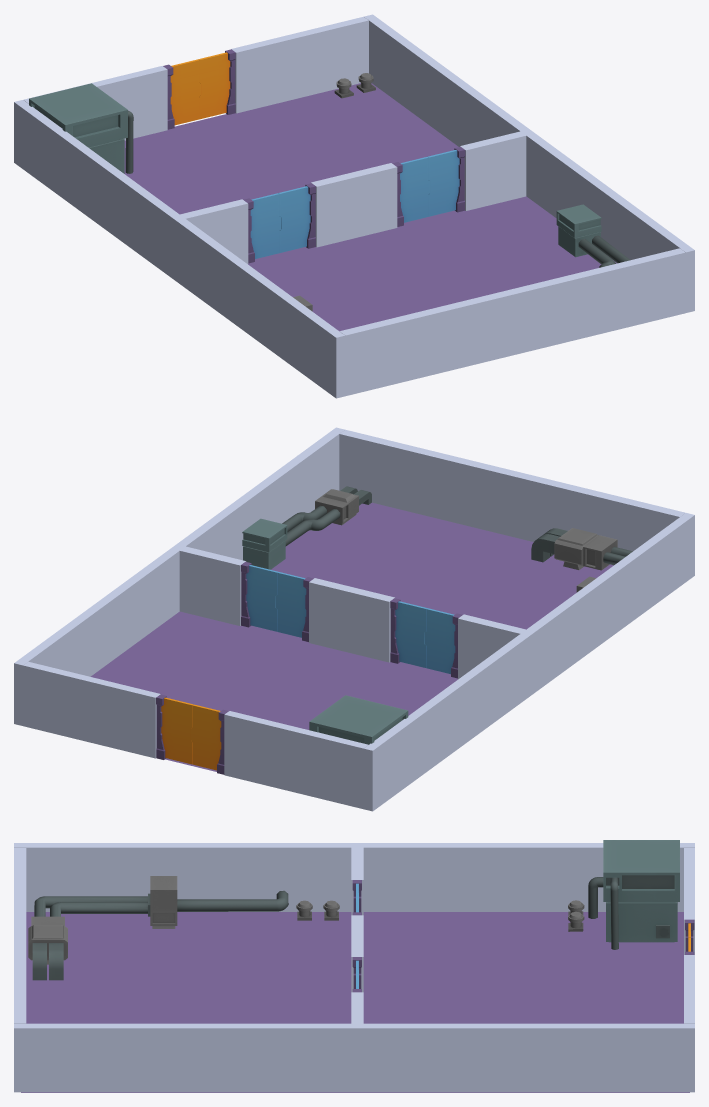
Rendered from maps_01.fbx.
3 views of the same model, one above another, from view 1: azimuth 30°, elevation 25°; view 2: azimuth 150°, elevation 25°; view 3: azimuth 270°, elevation 25° (orthographic). The views are drawn at different scales.
Visible parts, largest first — view 1: ground_geo, frames_01_geo, frames_03_geo, frames_02_geo, frames_06_geo, frames_04_geo, generatorStation_05_geo, frames_08_geo, door_01_geo (×2), door_02_geo (×2), frames_05_geo, generatorStation_04_geo (+5 smaller); view 2: ground_geo, frames_01_geo, frames_03_geo, frames_02_geo, frames_05_geo, frames_06_geo, frames_04_geo, frames_08_geo, generatorStation_04_geo, door_01_geo (×2), door_02_geo (×2), generatorStation_03_geo (+6 smaller); view 3: ground_geo, frames_02_geo, frames_01_geo, generatorStation_05_geo, generatorStation_03_geo, frames_03_geo, frames_05_geo, frames_06_geo, frames_04_geo, frames_07_geo, generatorStation_02_geo, generatorStation_06_geo (+1 smaller).
Part boxes in pixels (box(x1,y1,x2,y2)): ground_geo: box(124, 83, 617, 331); frames_01_geo: box(14, 100, 345, 398); frames_03_geo: box(340, 248, 685, 396); frames_02_geo: box(364, 14, 694, 312); frames_06_geo: box(231, 16, 368, 113); frames_04_geo: box(311, 163, 397, 247); generatorStation_05_geo: box(29, 83, 133, 173); frames_08_geo: box(460, 131, 526, 210); door_01_geo (×2): box(278, 150, 459, 252); door_02_geo (×2): box(250, 157, 430, 258); frames_05_geo: box(23, 66, 167, 140); generatorStation_04_geo: box(556, 204, 630, 267); ground_geo: box(90, 502, 613, 771); frames_01_geo: box(363, 513, 694, 811); frames_03_geo: box(339, 429, 685, 551); frames_02_geo: box(14, 427, 344, 725); frames_05_geo: box(224, 711, 368, 809); frames_06_geo: box(23, 661, 160, 758); frames_04_geo: box(309, 578, 394, 662); frames_08_geo: box(179, 546, 246, 625); generatorStation_04_geo: box(242, 486, 371, 569); door_01_geo (×2): box(246, 565, 427, 667); door_02_geo (×2): box(276, 572, 455, 674); generatorStation_03_geo: box(531, 528, 632, 592); ground_geo: box(21, 912, 689, 1092); frames_02_geo: box(14, 1023, 694, 1092); frames_01_geo: box(14, 843, 694, 911); generatorStation_05_geo: box(588, 840, 679, 949); generatorStation_03_geo: box(28, 876, 288, 980); frames_03_geo: box(14, 848, 26, 1023); frames_05_geo: box(684, 848, 694, 954); frames_06_geo: box(684, 955, 694, 1023); frames_04_geo: box(351, 915, 363, 992); frames_07_geo: box(351, 847, 363, 915); generatorStation_02_geo: box(296, 900, 339, 920); generatorStation_06_geo: box(568, 900, 584, 931).
Bounding box in the file's own units: 54.88 × 10.22 × 85.35.
Materials: 4 (4 with a texture image).
